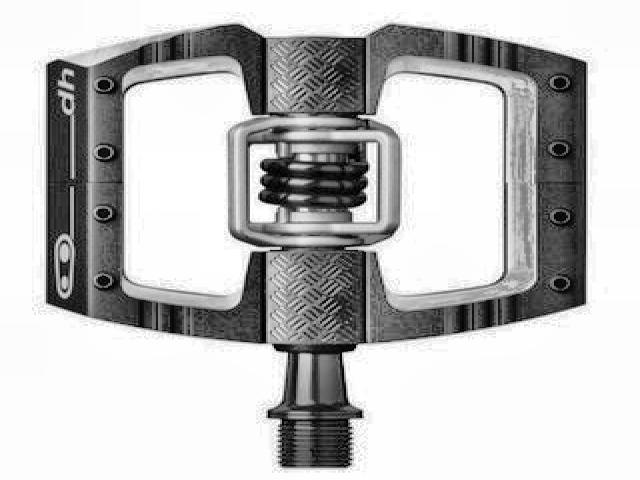pedal: (39, 19, 588, 471)
